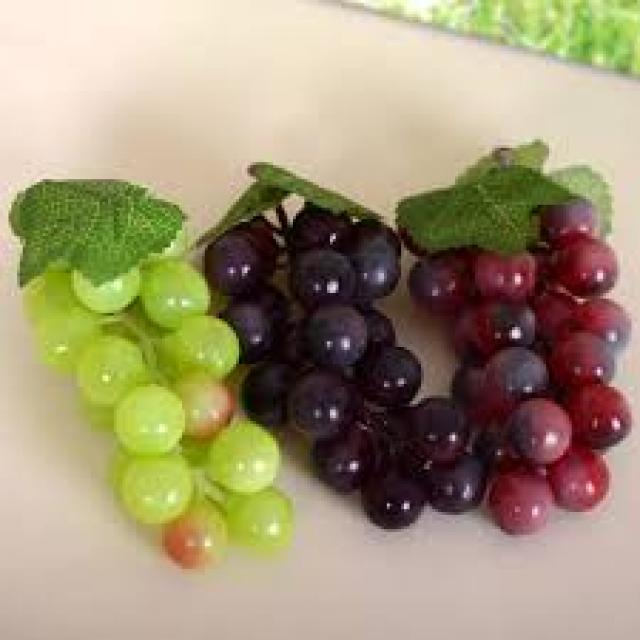organic waste: (23, 182, 290, 563), (210, 159, 478, 529), (398, 142, 629, 532)
